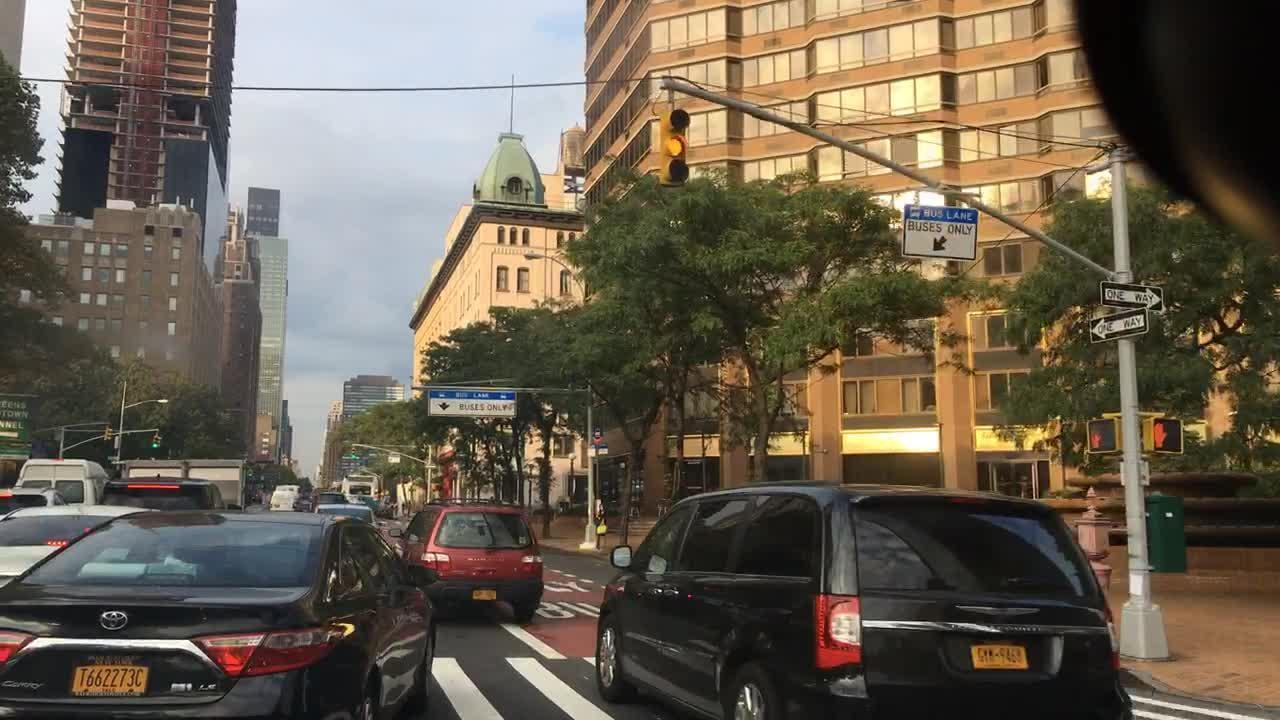Chrysler: (953, 605, 1039, 617)
Toyota: (94, 604, 134, 638)
